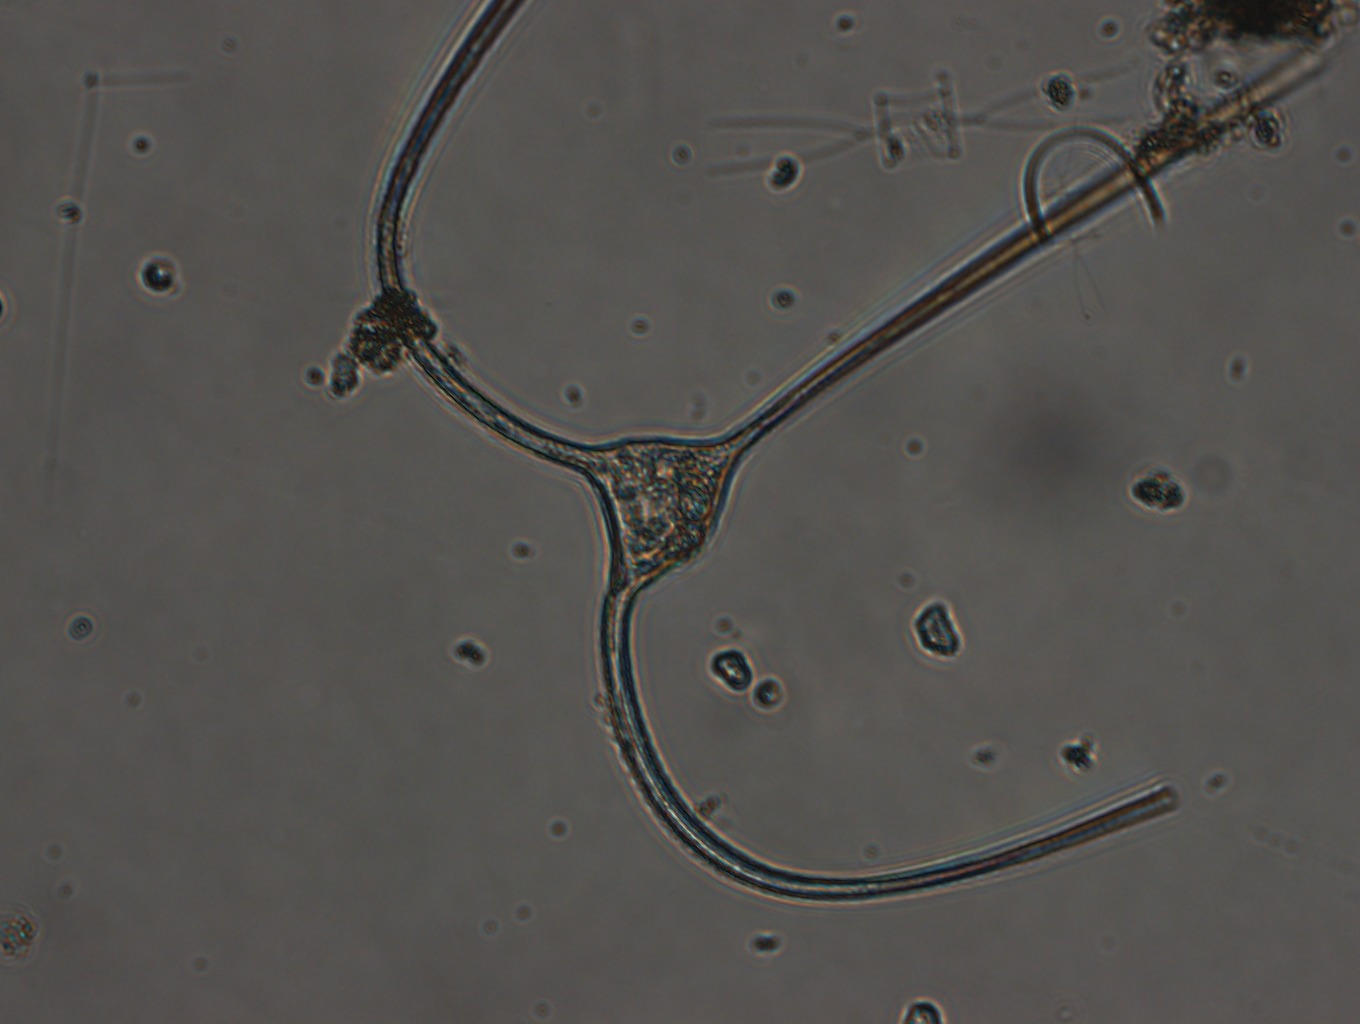ceratium trichoceros: (366, 1, 1360, 912)
